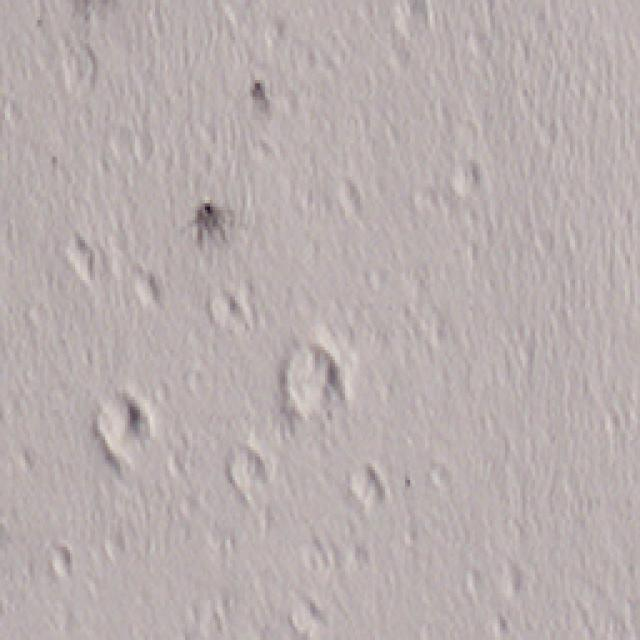Crater: (277, 330, 345, 430)
